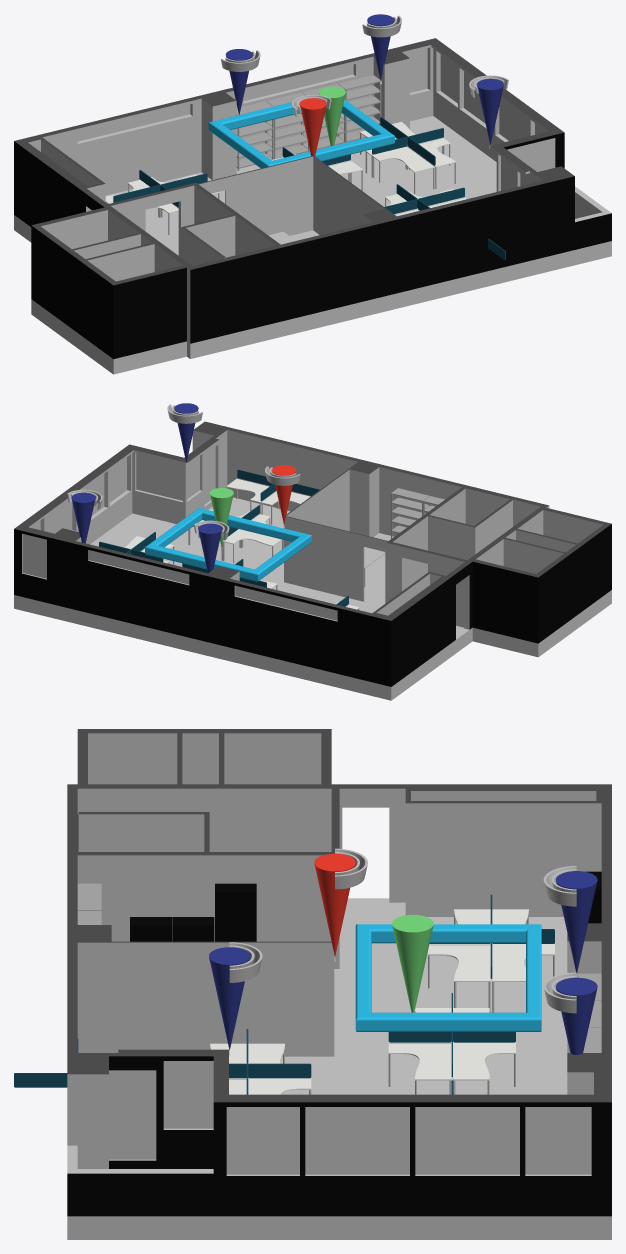
File: eForce-3F_360STEPtoFreeGLB.glb
3 renders of one model, top to bottom at view 1: azimuth 30°, elevation 25°; view 2: azimuth 150°, elevation 25°; view 3: azimuth 270°, elevation 25°, orthographic. The views are drawn at different scales.
Visible parts, largest first — view 1: eForce-3F v21, コンポーネント1, Rack v8, Rack v010, Rack v011, SOLID002, SOLID, Desk-L v6(ミラー)(ミラー)002, Maker v012, SOLID004, SOLID006, Desk-L v6(ミラー)006 (+3 smaller); view 2: eForce-3F v21, コンポーネント1, Rack v013, SOLID004, SOLID006, Maker v012, Desk-L v6(ミラー)(ミラー)003, SOLID002, SOLID, Desk-L v6(ミラー)012, wave001; view 3: eForce-3F v21, コンポーネント1, Cabinet-1800 v2, Maker v012, SOLID006, SOLID002, SOLID, SOLID004, Desk-L v007, Desk-L v6, Desk-L v6(ミラー)004, Desk-L v6(ミラー)002 (+16 smaller).
Boxes of the visible parts, x1,y1,x2,y2 form: eForce-3F v21: (14, 38, 611, 374); コンポーネント1: (208, 99, 394, 168); Rack v8: (338, 75, 381, 142); Rack v010: (266, 92, 309, 159); Rack v011: (236, 101, 273, 170); SOLID002: (477, 78, 503, 145); SOLID: (299, 98, 326, 156); Desk-L v6(ミラー)(ミラー)002: (372, 147, 434, 193); Maker v012: (319, 86, 345, 146); SOLID004: (367, 14, 394, 80); SOLID006: (225, 49, 252, 114); Desk-L v6(ミラー)006: (408, 138, 456, 188); eForce-3F v21: (14, 421, 611, 700); コンポーネント1: (145, 507, 311, 581); Rack v013: (391, 488, 429, 538); SOLID004: (71, 492, 95, 543); SOLID006: (198, 523, 222, 572); Maker v012: (209, 488, 233, 547); Desk-L v6(ミラー)(ミラー)003: (223, 529, 283, 563); SOLID002: (174, 403, 198, 462); SOLID: (272, 465, 296, 524); Desk-L v6(ミラー)012: (226, 478, 278, 514); wave001: (167, 404, 202, 423); eForce-3F v21: (67, 729, 611, 1239); コンポーネント1: (355, 924, 541, 1031); Cabinet-1800 v2: (215, 883, 256, 941); Maker v012: (392, 914, 433, 1012); SOLID006: (556, 871, 597, 973); SOLID002: (209, 947, 250, 1050); SOLID: (314, 853, 355, 956); SOLID004: (556, 977, 597, 1054); Desk-L v007: (428, 945, 490, 1012); Desk-L v6: (388, 1044, 451, 1094); Desk-L v6(ミラー)004: (492, 945, 554, 1012); Desk-L v6(ミラー)002: (453, 1043, 515, 1077).
Bounding box in the file's own units: 16.86 × 4.88 × 11.41.
